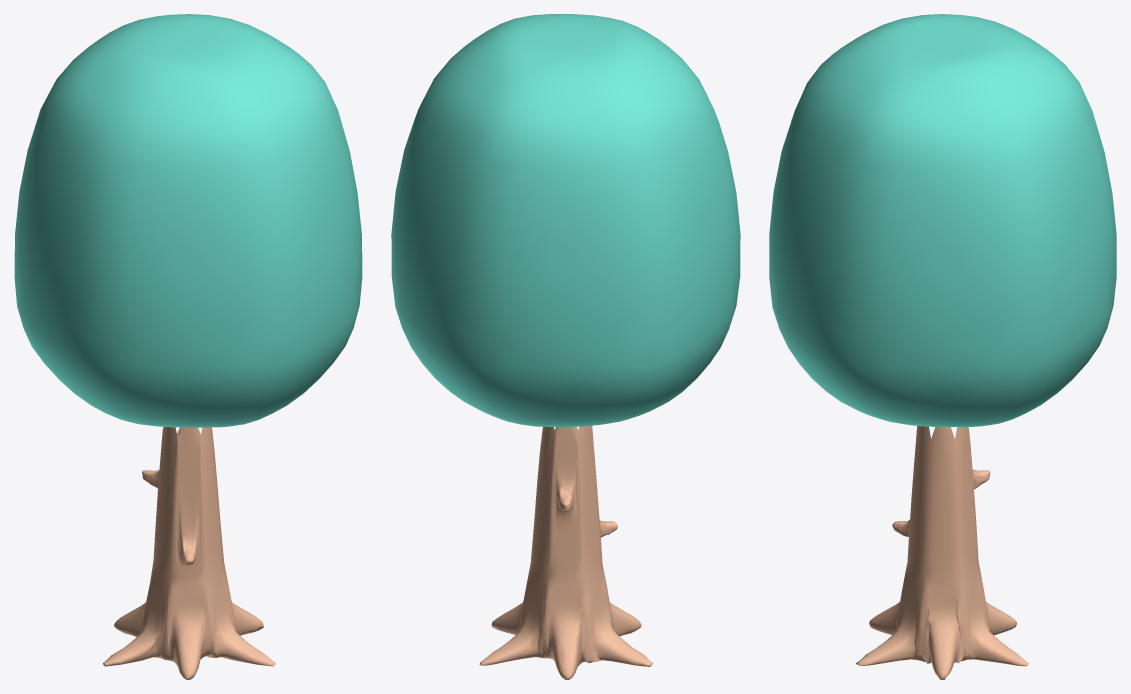
The picture shows the model from 3 angles, left to right: view 1: azimuth 30°, elevation 25°; view 2: azimuth 150°, elevation 25°; view 3: azimuth 270°, elevation 25°; orthographic projection.
Bounding box in the file's own units: 0.5007 × 1 × 0.5201.
